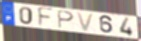0: (19, 6, 34, 26)
4: (119, 17, 134, 38)
6: (99, 15, 114, 35)
F: (37, 6, 55, 28)
P: (56, 10, 75, 30)
V: (75, 11, 96, 33)
